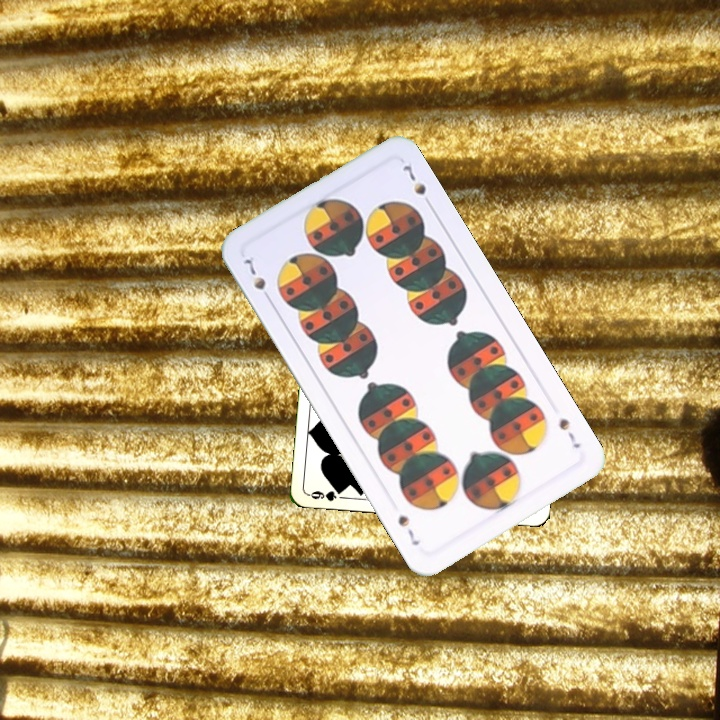G9: (305, 485, 346, 504)
S7: (241, 251, 275, 306), (554, 414, 583, 451)
